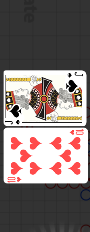10H: (69, 128, 85, 136)
7S: (67, 71, 85, 78)
